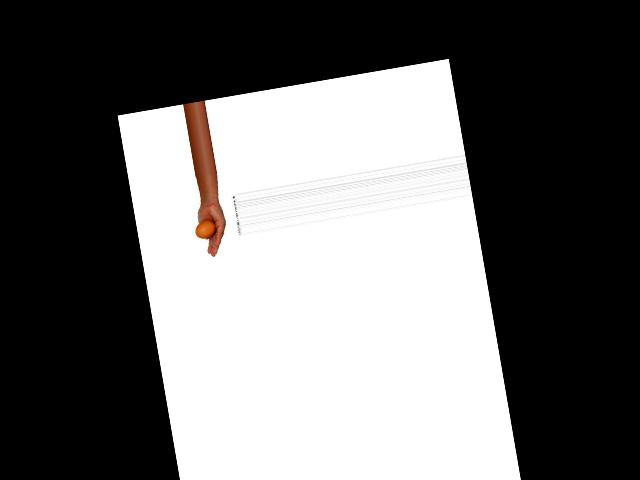egg: (194, 218, 218, 240)
